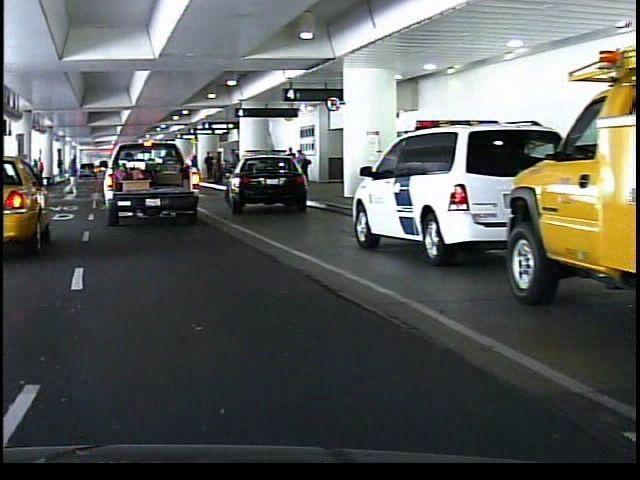person: (61, 151, 79, 198)
